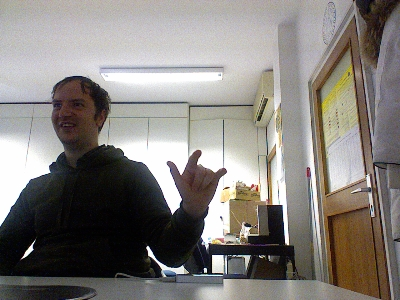我爱你: (165, 149, 228, 211)
